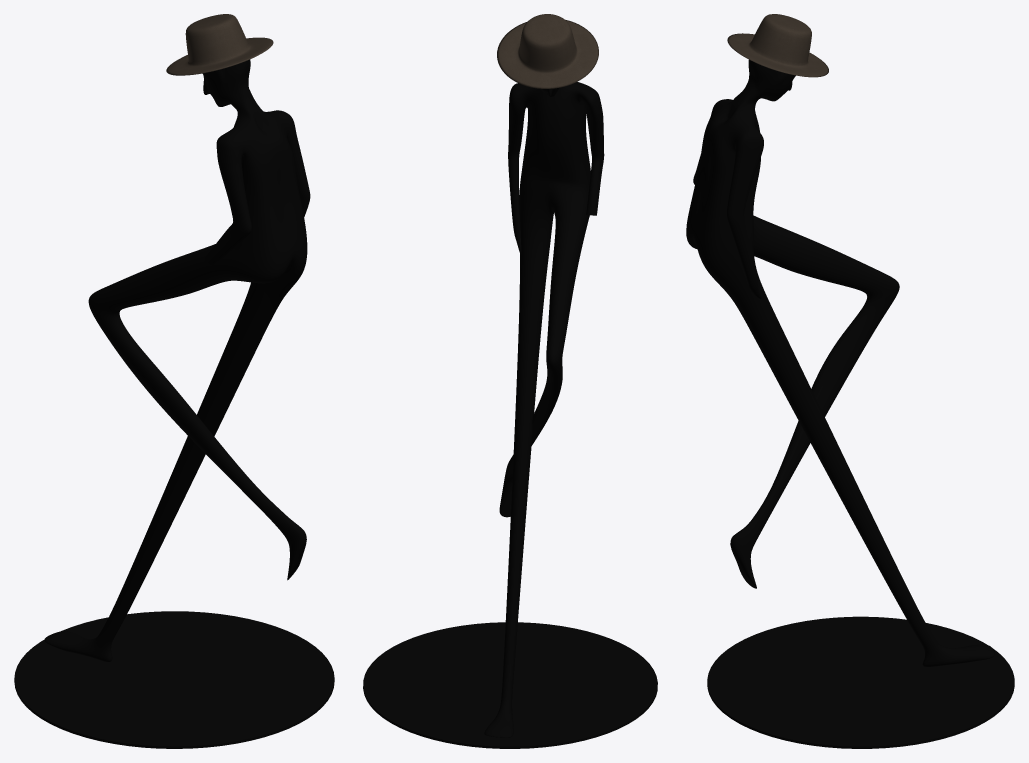
3 renders of one model, left to right at view 1: azimuth 30°, elevation 25°; view 2: azimuth 150°, elevation 25°; view 3: azimuth 270°, elevation 25°, orthographic. The views are drawn at different scales.
Visible parts, largest first — view 1: Item_Decor, Item_SM, Item_Decor.001; view 2: Item_SM, Item_Decor, Item_Decor.001; view 3: Item_Decor, Item_SM, Item_Decor.001.
Part boxes in pixels (x1,y1,x2,y2): Item_Decor: (44, 59, 310, 661); Item_SM: (14, 611, 334, 748); Item_Decor.001: (166, 14, 273, 75); Item_SM: (363, 622, 657, 748); Item_Decor: (484, 81, 604, 737); Item_Decor.001: (497, 14, 598, 88); Item_Decor: (686, 59, 994, 666); Item_SM: (707, 616, 1014, 748); Item_Decor.001: (727, 14, 828, 77).
Bounding box in the file's own units: 0.1585 × 0.3793 × 0.1694.
2 materials, 1 textured.
